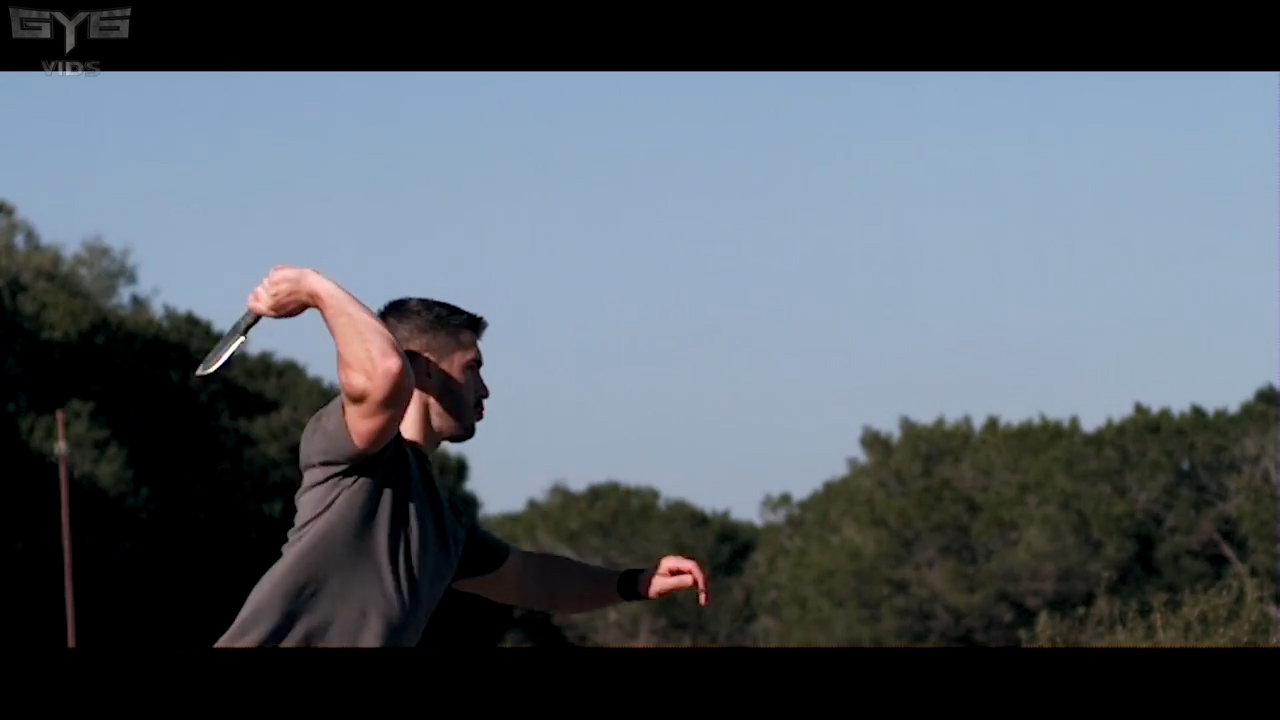knife: (186, 255, 318, 385)
